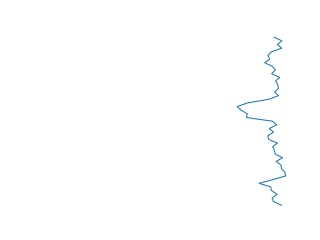interdistributaryEstuary: (233, 35, 290, 208)
